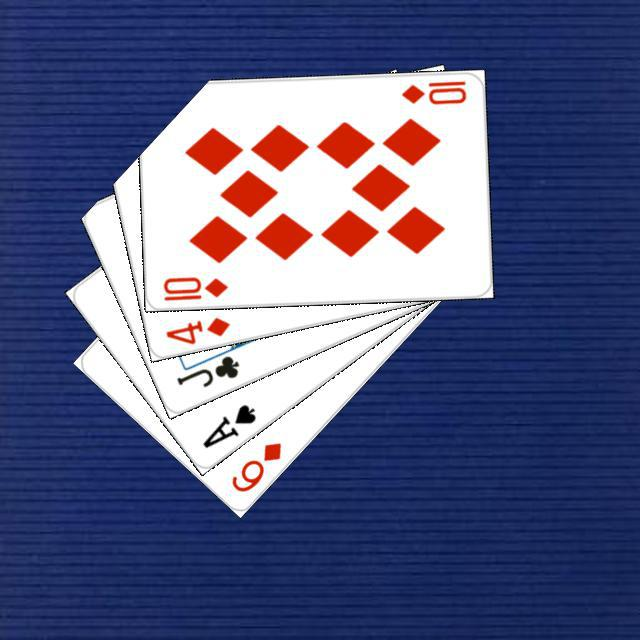10d: (397, 75, 468, 106), (158, 272, 229, 302)
4d: (160, 312, 232, 346)
6d: (226, 437, 283, 494)
As: (197, 399, 258, 450)
Jc: (171, 350, 241, 389)
